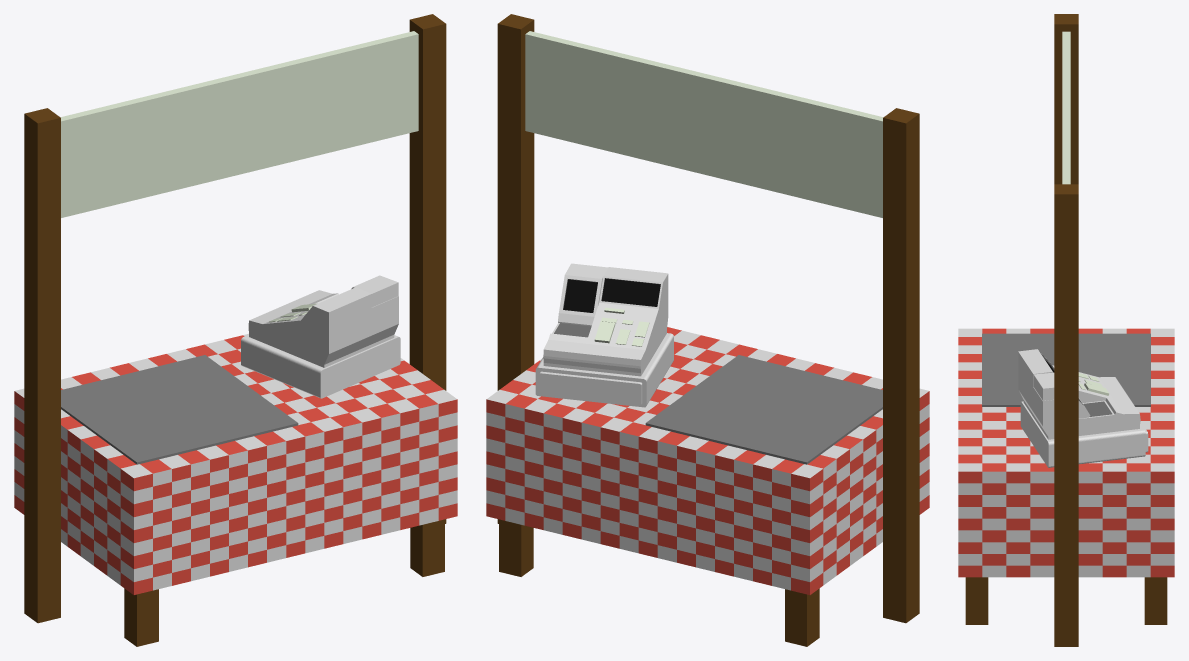
Rendered from cash_table (2).fbx.
The picture shows the model from 3 angles, left to right: view 1: azimuth 30°, elevation 25°; view 2: azimuth 150°, elevation 25°; view 3: azimuth 270°, elevation 25°; orthographic projection. The views are drawn at different scales.
Parts seen in each view (by area): view 1: table, mark, base; view 2: table, mark, base; view 3: table, mark, base.
Boxes of the visible parts, left/top/right/bottom form: table: left=14, top=333, right=457, bottom=646; mark: left=24, top=14, right=446, bottom=623; base: left=241, top=275, right=400, bottom=398; table: left=486, top=327, right=929, bottom=646; mark: left=497, top=14, right=919, bottom=623; base: left=535, top=263, right=673, bottom=407; table: left=958, top=328, right=1174, bottom=624; mark: left=1054, top=14, right=1078, bottom=646; base: left=1018, top=349, right=1148, bottom=467.
Size of the model in its own units: 1060 by 1240 by 537.
